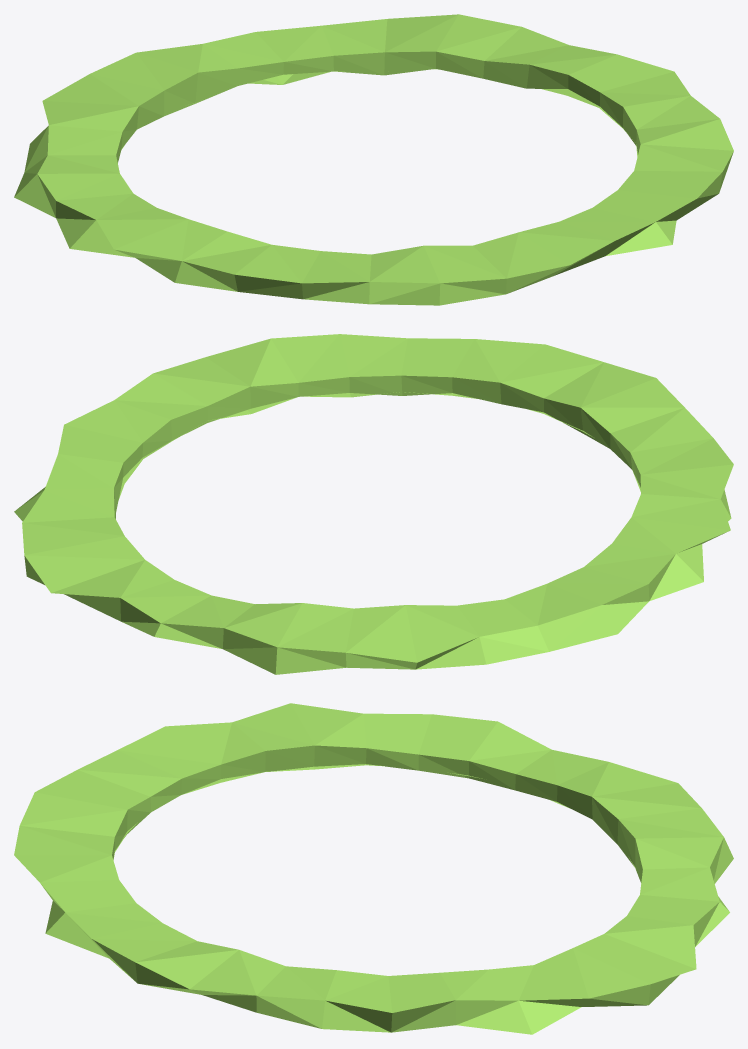
File: ringTwo.fbx
The picture shows the model from 3 angles, top to bottom: view 1: azimuth 30°, elevation 25°; view 2: azimuth 150°, elevation 25°; view 3: azimuth 270°, elevation 25°; orthographic projection.
Parts seen in each view (by area): view 1: Cylinder.004; view 2: Cylinder.004; view 3: Cylinder.004.
Part boxes in pixels (x1,y1,x2,y2): Cylinder.004: (14, 14, 733, 305); Cylinder.004: (14, 334, 733, 674); Cylinder.004: (14, 703, 733, 1034).
Size of the model in its own units: 2724 by 227 by 2703.
